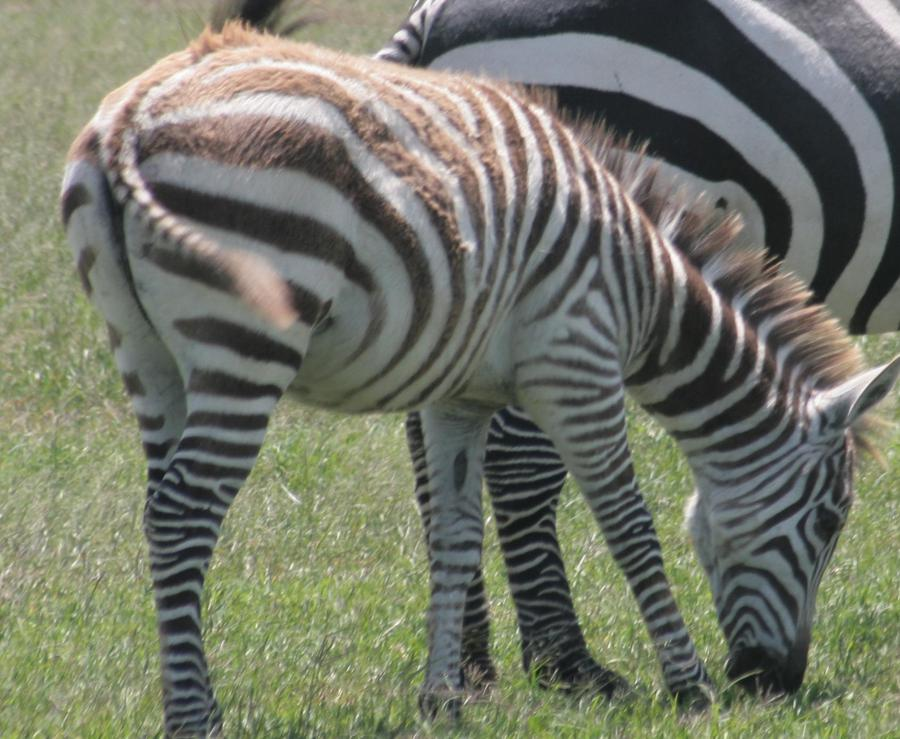zebra_plains: (141, 71, 632, 460)
